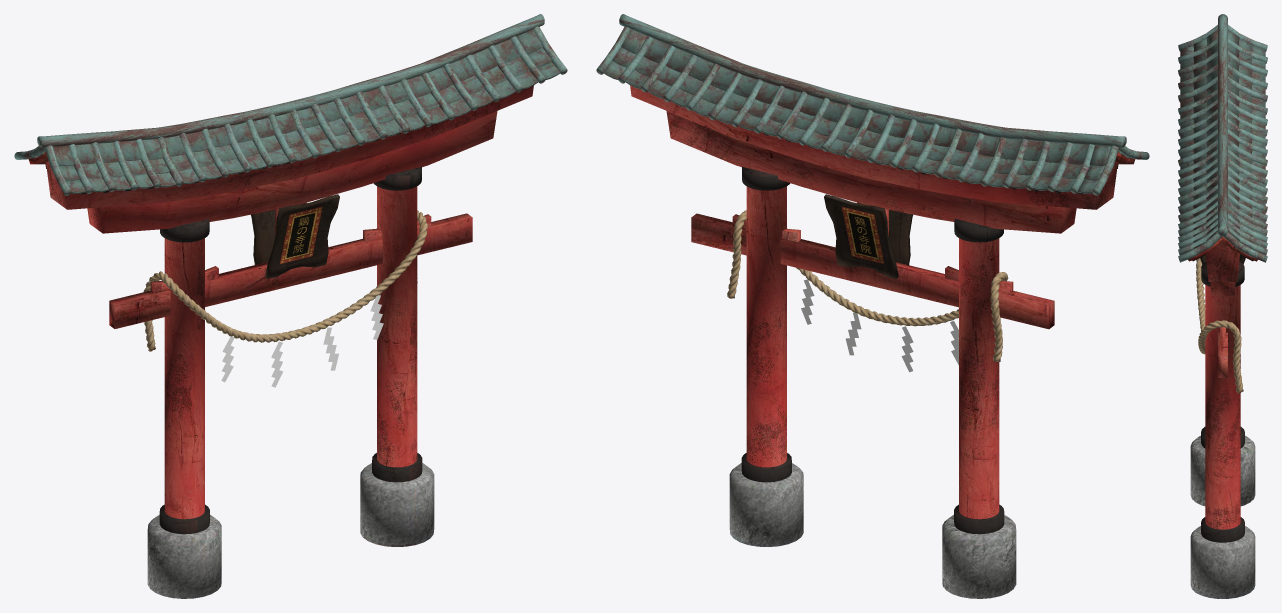
Rendered from torii.glb.
3 renders of one model, left to right at view 1: azimuth 30°, elevation 25°; view 2: azimuth 150°, elevation 25°; view 3: azimuth 270°, elevation 25°, orthographic. The views are drawn at different scales.
Parts seen in each view (by area): view 1: Cube_014; view 2: Cube_014; view 3: Cube_014.
Part boxes in pixels (x1,y1,x2,y2): Cube_014: (14, 14, 567, 598); Cube_014: (596, 14, 1149, 598); Cube_014: (1178, 14, 1267, 598).
Bounding box in the file's own units: 871 × 797 × 155.
1 material, 1 textured.
